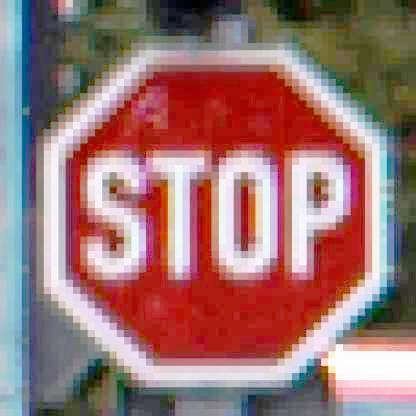Stop Sign: (47, 40, 398, 385)
